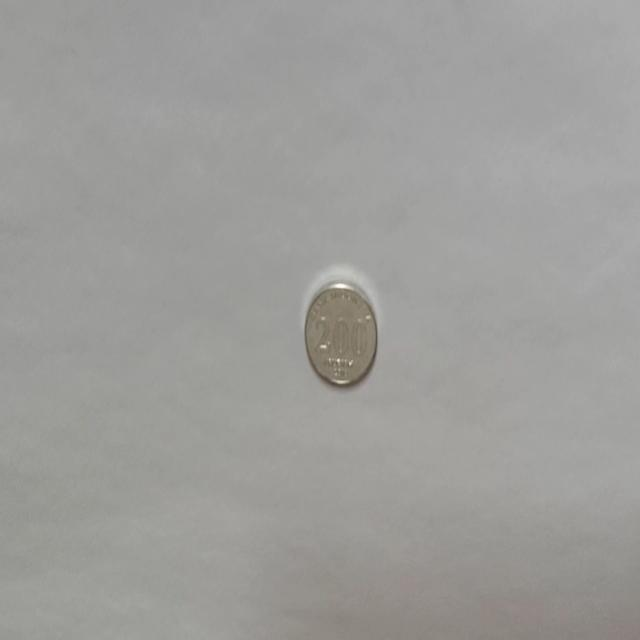dua ratus rupiah: (302, 278, 378, 388)
